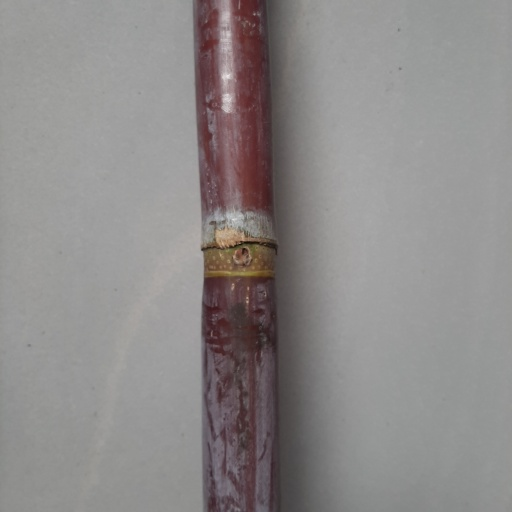Damage_Bud: (231, 246, 253, 267)
